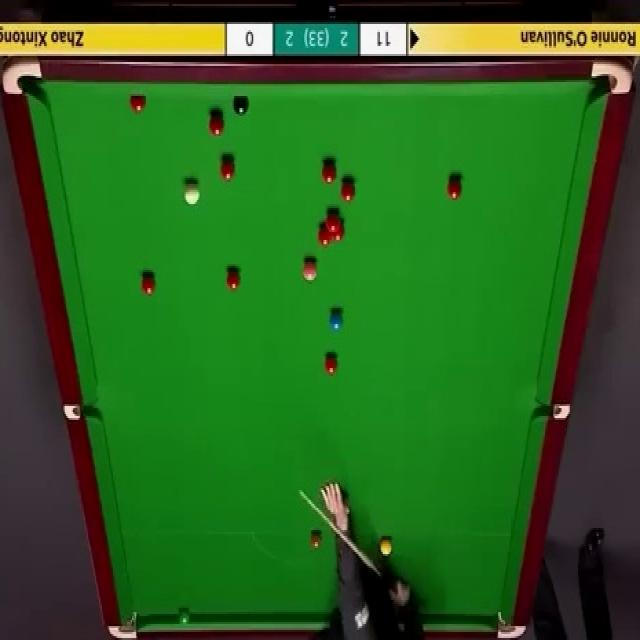black-ball: (232, 95, 248, 117)
blue-ball: (328, 311, 344, 332)
brown-ball: (310, 532, 322, 552)
green-ball: (177, 610, 190, 629)
pink-ball: (301, 256, 318, 281)
red-ball: (444, 175, 466, 200), (320, 160, 337, 189), (320, 349, 338, 376), (225, 267, 242, 294), (208, 110, 225, 136), (339, 179, 359, 201), (219, 156, 235, 182), (142, 271, 156, 296), (332, 218, 346, 242), (318, 222, 331, 246), (129, 97, 147, 114), (324, 210, 340, 229)
white-ball: (182, 178, 201, 206)
yellow-ball: (381, 538, 393, 554)
